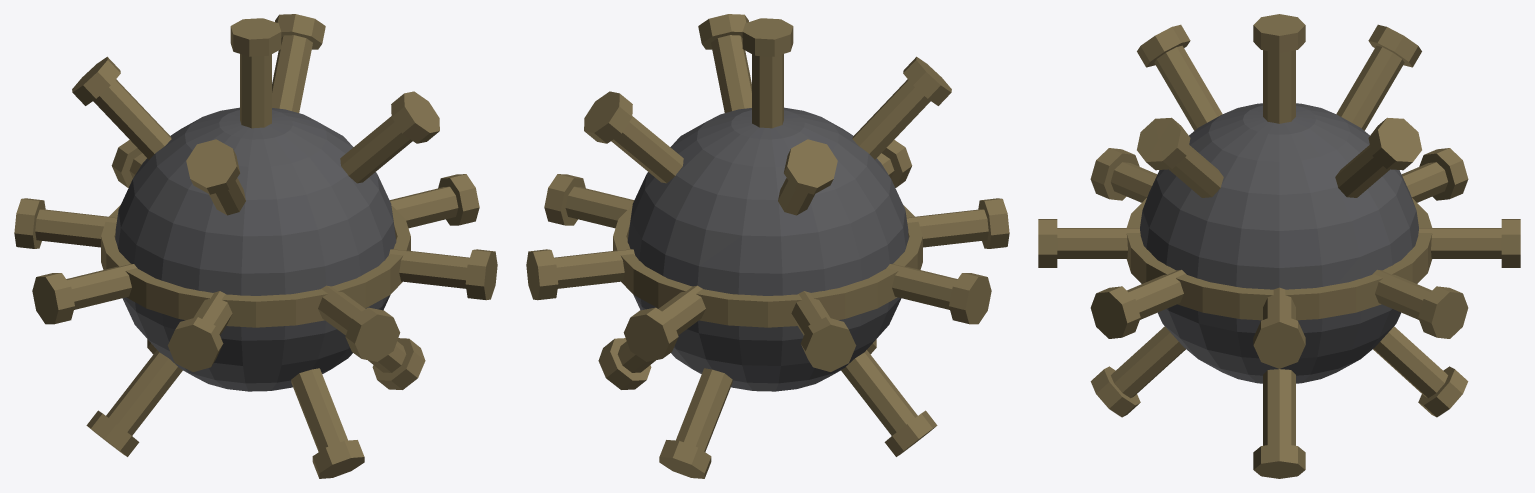
File: vge_e_gravmine.obj
3 renders of one model, left to right at view 1: azimuth 30°, elevation 25°; view 2: azimuth 150°, elevation 25°; view 3: azimuth 270°, elevation 25°, orthographic.
Visible parts, largest first — view 1: vge_gravmine_0, vge_gravmine_1, vge_gravmine_32, vge_gravmine_22, vge_gravmine_34, vge_gravmine_20, vge_gravmine_26, vge_gravmine_2, vge_gravmine_18, vge_gravmine_25, vge_gravmine_10, vge_gravmine_15 (+19 smaller); view 2: vge_gravmine_0, vge_gravmine_1, vge_gravmine_32, vge_gravmine_24, vge_gravmine_30, vge_gravmine_26, vge_gravmine_20, vge_gravmine_2, vge_gravmine_6, vge_gravmine_23, vge_gravmine_14, vge_gravmine_11 (+19 smaller); view 3: vge_gravmine_0, vge_gravmine_1, vge_gravmine_22, vge_gravmine_24, vge_gravmine_28, vge_gravmine_30, vge_gravmine_34, vge_gravmine_2, vge_gravmine_8, vge_gravmine_16, vge_gravmine_5, vge_gravmine_21 (+20 smaller).
Part boxes in pixels (x1,y1,x2,y2): vge_gravmine_0: (115, 107, 396, 391); vge_gravmine_1: (101, 205, 410, 327); vge_gravmine_32: (106, 350, 182, 435); vge_gravmine_22: (93, 79, 171, 159); vge_gravmine_34: (291, 368, 347, 451); vge_gravmine_20: (272, 35, 312, 112); vge_gravmine_26: (340, 116, 412, 183); vge_gravmine_2: (240, 54, 271, 128); vge_gravmine_18: (388, 249, 469, 288); vge_gravmine_25: (186, 139, 239, 194); vge_gravmine_10: (35, 209, 117, 247); vge_gravmine_15: (167, 317, 223, 371); vge_gravmine_0: (627, 107, 908, 391); vge_gravmine_1: (613, 205, 922, 327); vge_gravmine_32: (841, 350, 917, 435); vge_gravmine_24: (852, 79, 930, 159); vge_gravmine_30: (676, 368, 732, 451); vge_gravmine_26: (711, 35, 751, 112); vge_gravmine_20: (611, 116, 683, 183); vge_gravmine_2: (752, 54, 783, 128); vge_gravmine_6: (554, 249, 635, 288); vge_gravmine_23: (784, 139, 837, 194); vge_gravmine_14: (906, 209, 988, 247); vge_gravmine_11: (800, 317, 856, 371); vge_gravmine_0: (1140, 103, 1418, 383); vge_gravmine_1: (1126, 198, 1432, 320); vge_gravmine_22: (1336, 45, 1404, 130); vge_gravmine_24: (1154, 45, 1222, 130); vge_gravmine_28: (1263, 369, 1295, 445); vge_gravmine_30: (1373, 326, 1447, 398); vge_gravmine_34: (1111, 326, 1185, 398); vge_gravmine_2: (1263, 50, 1295, 123); vge_gravmine_8: (1418, 228, 1501, 258); vge_gravmine_16: (1057, 228, 1140, 258); vge_gravmine_5: (1253, 314, 1305, 368); vge_gravmine_21: (1368, 117, 1421, 170).
Bounding box in the file's own units: 1.02 × 0.9095 × 1.02.
